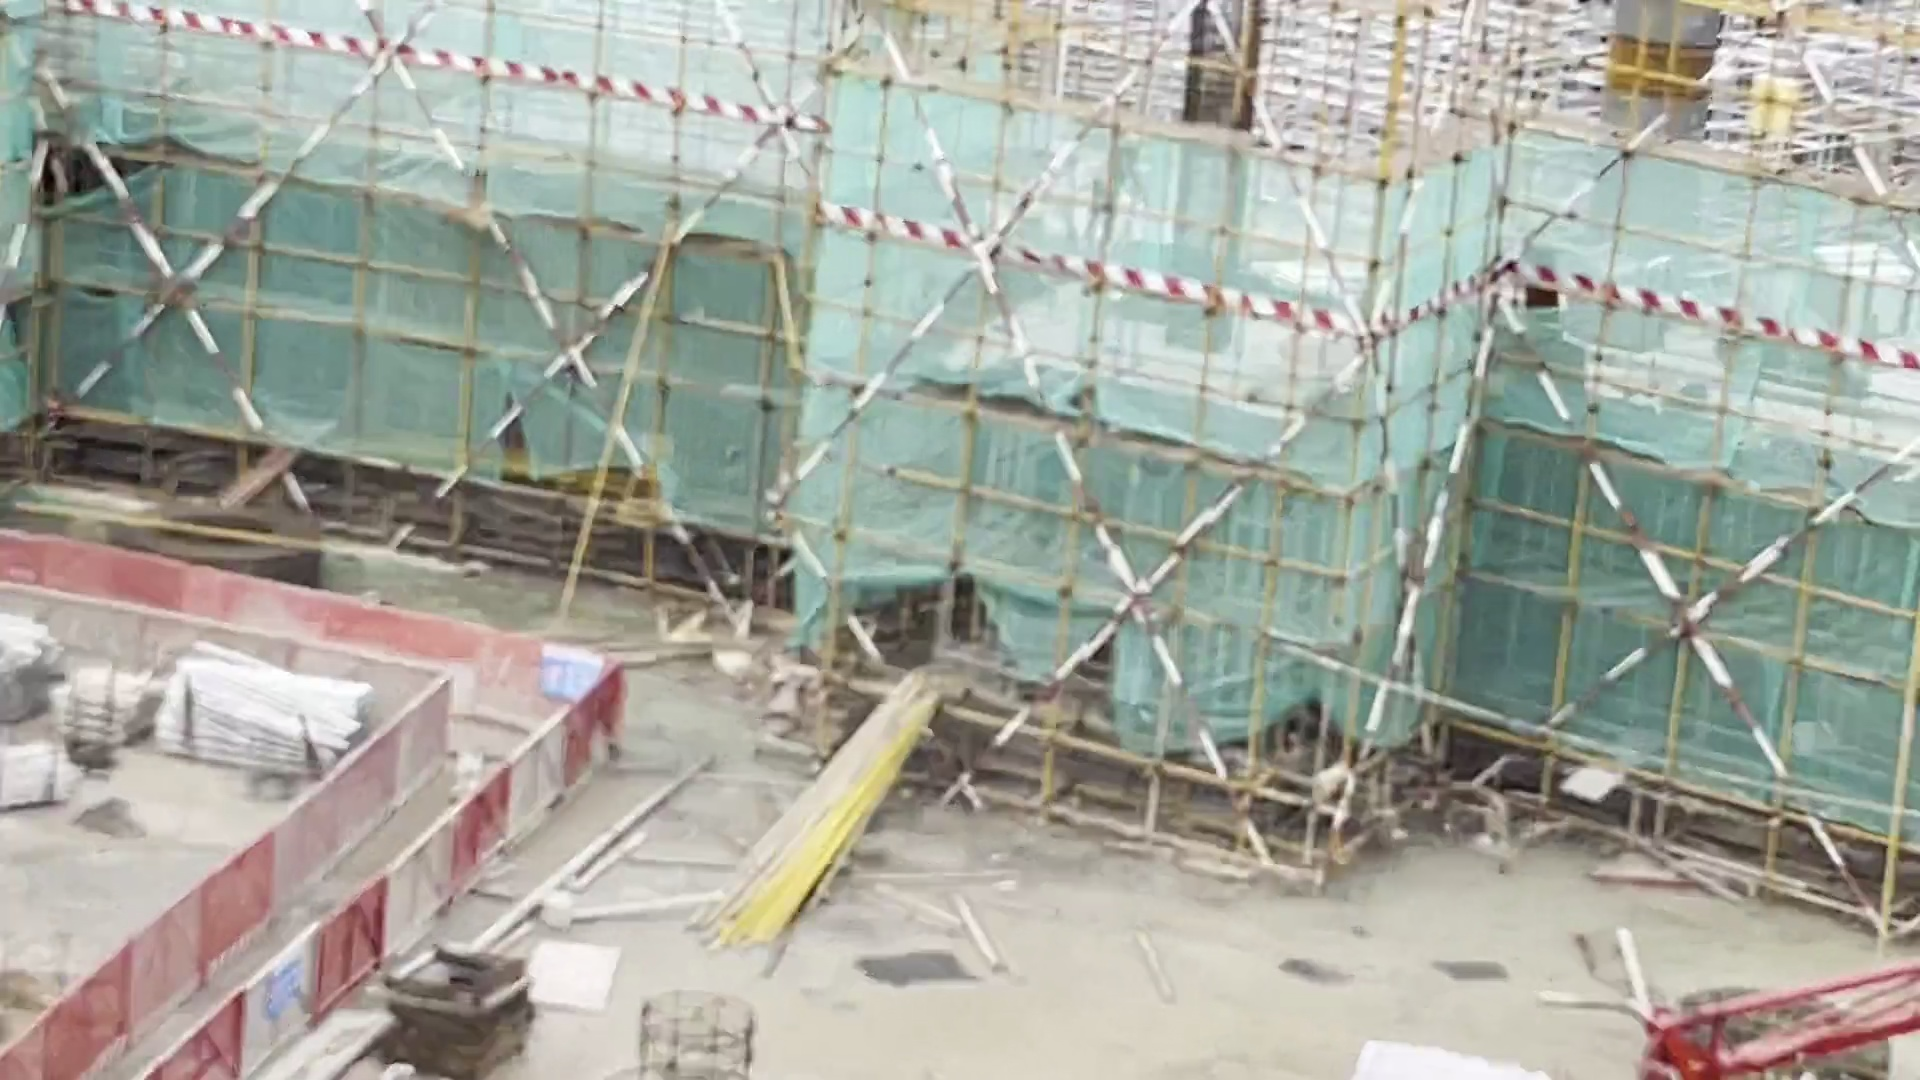fence: (65, 501, 641, 749), (45, 771, 407, 1077), (273, 732, 574, 866)
scaffold: (156, 642, 363, 785), (55, 663, 148, 752), (7, 744, 80, 820), (1, 607, 51, 705)
slogan: (513, 638, 657, 748), (211, 931, 375, 1001)
